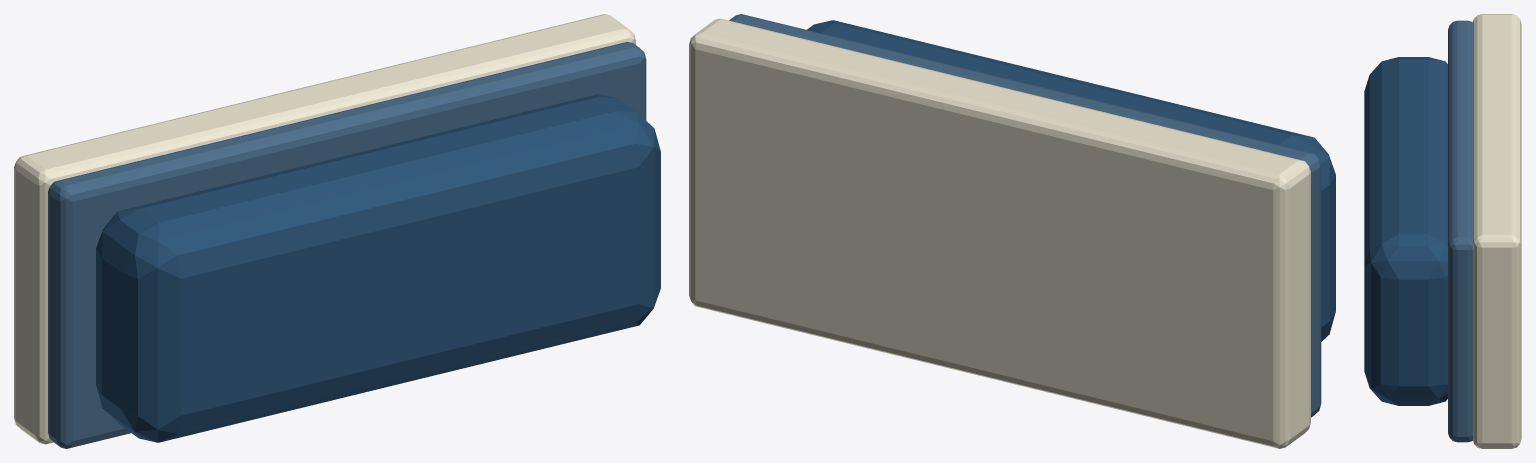
3 views of the same model, side by side, from view 1: azimuth 30°, elevation 25°; view 2: azimuth 150°, elevation 25°; view 3: azimuth 270°, elevation 25° (orthographic). The views are drawn at different scales.
Visible parts, largest first — view 1: geometry_0; view 2: geometry_0; view 3: geometry_0.
Boxes of the visible parts, <box> form: geometry_0: <box>14,14,660,448</box>; geometry_0: <box>689,14,1335,448</box>; geometry_0: <box>1364,14,1521,448</box>.
Size of the model in its own units: 0.11 by 0.048 by 0.032.
1 material, 1 textured.
